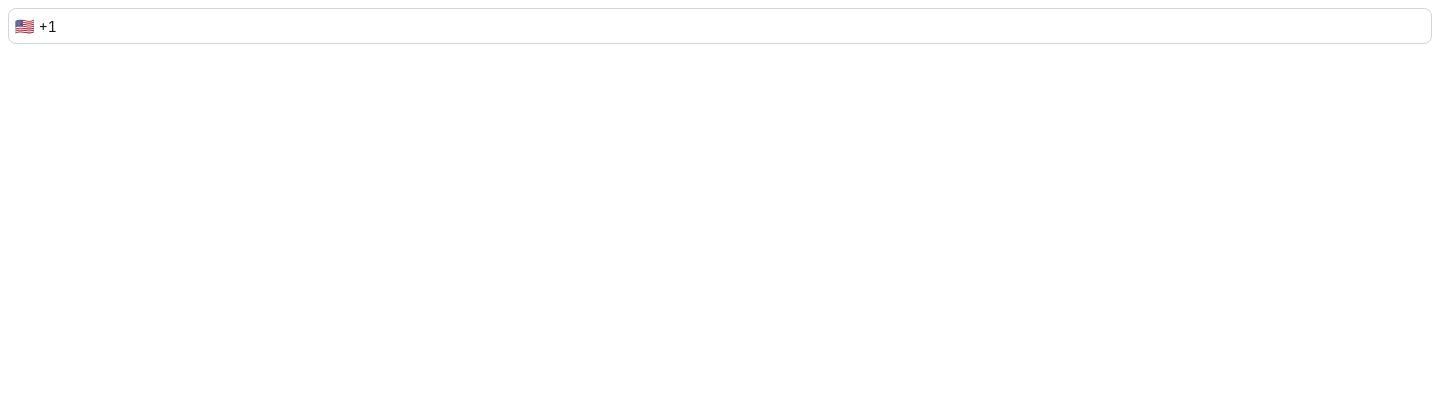
PhoneInput › opens a searchable country list from the trigger
Click the button named "Country:" at (45, 26), box [9,12,81,40]
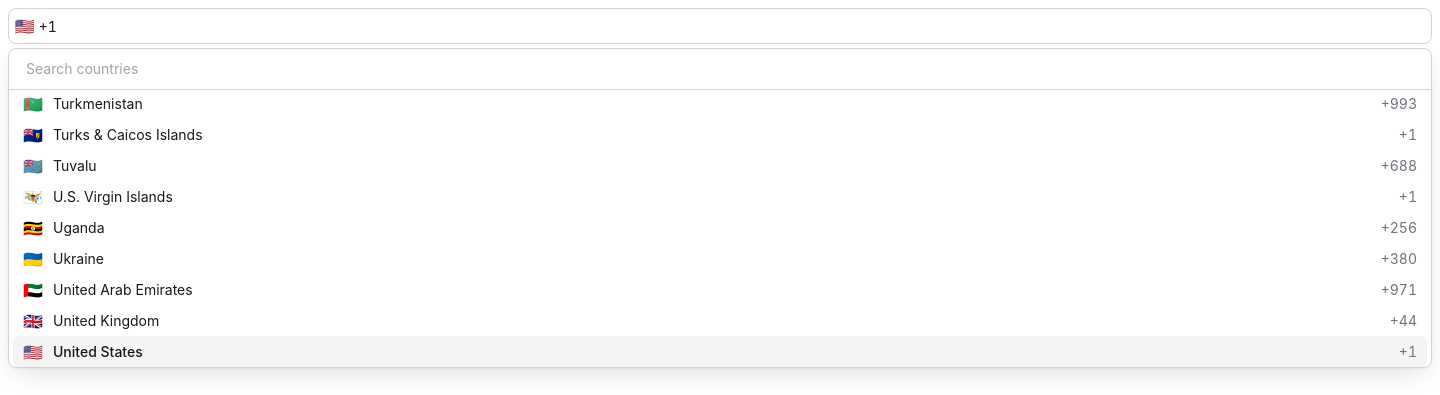
Type "germ" into the dropdown labelled "Search countries" at (720, 69), box [13,53,1427,85]
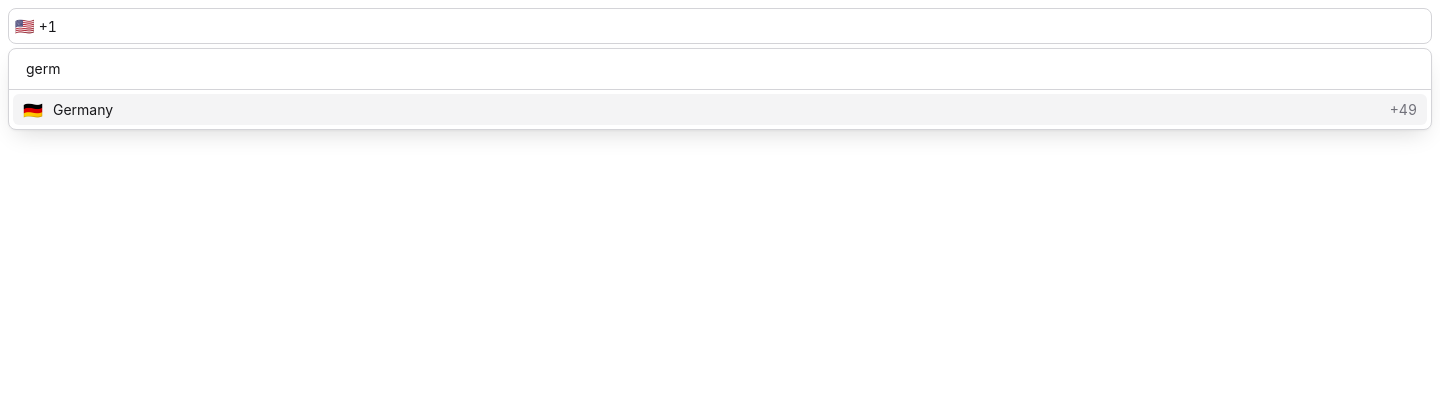
Expected: the options read "🇩🇪Germany+49", in this order, [13,94,1427,125]
